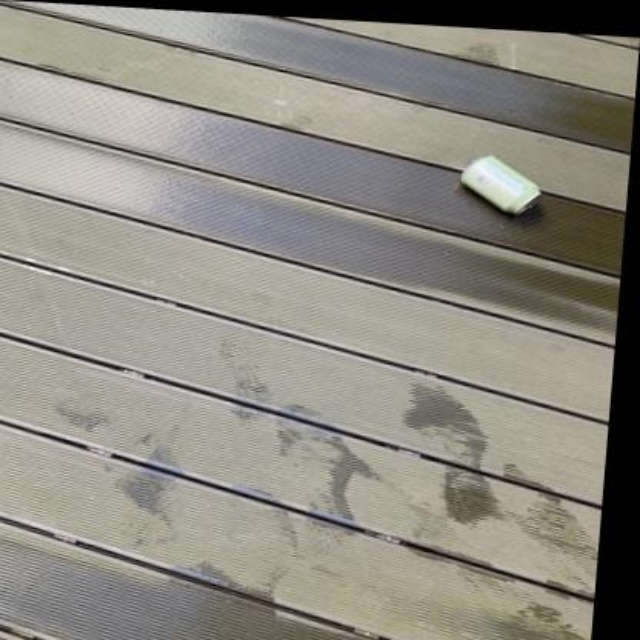trash: (462, 155, 540, 214)
